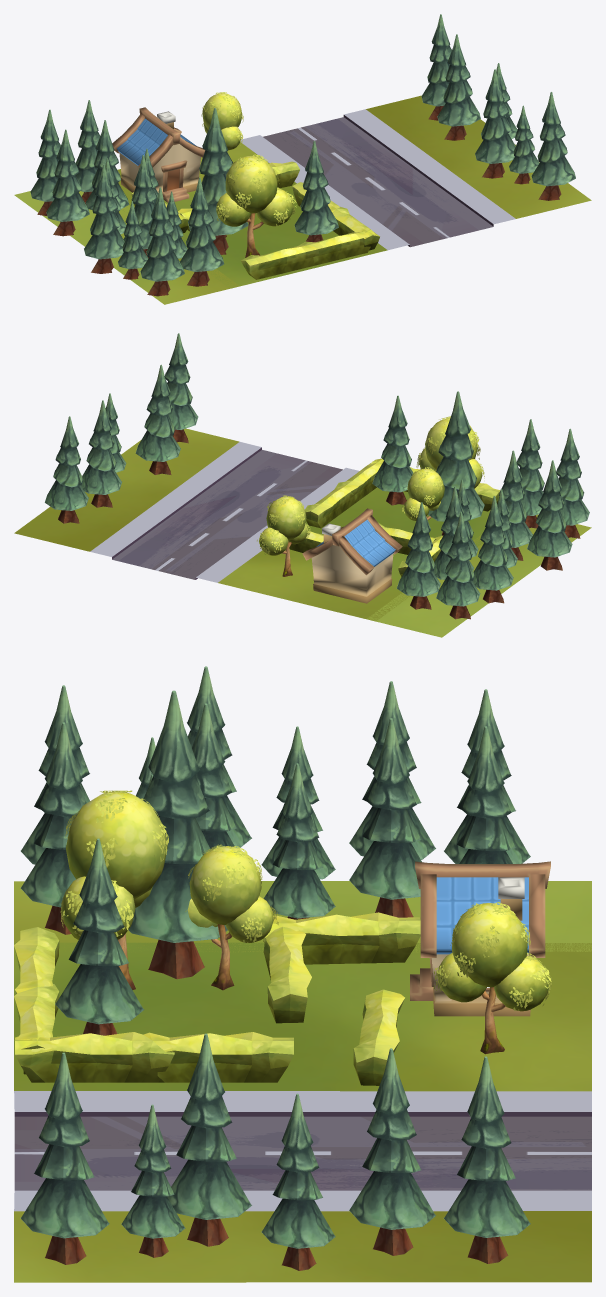
File: satz5 .fbx
The picture shows the model from 3 angles, top to bottom: view 1: azimuth 30°, elevation 25°; view 2: azimuth 150°, elevation 25°; view 3: azimuth 270°, elevation 25°; orthographic projection. The views are drawn at different scales.
Visible parts, largest first — view 1: Plane_Road_0.010; view 2: Plane_Road_0.010; view 3: Plane_Road_0.010.
Boxes of the visible parts, x1=… form: Plane_Road_0.010: x1=14, y1=14, x2=591, y2=304; Plane_Road_0.010: x1=14, y1=333, x2=591, y2=637; Plane_Road_0.010: x1=14, y1=666, x2=591, y2=1282.
Bounding box in the file's own units: 1592 × 909 × 488.
5 materials, 5 textured.
